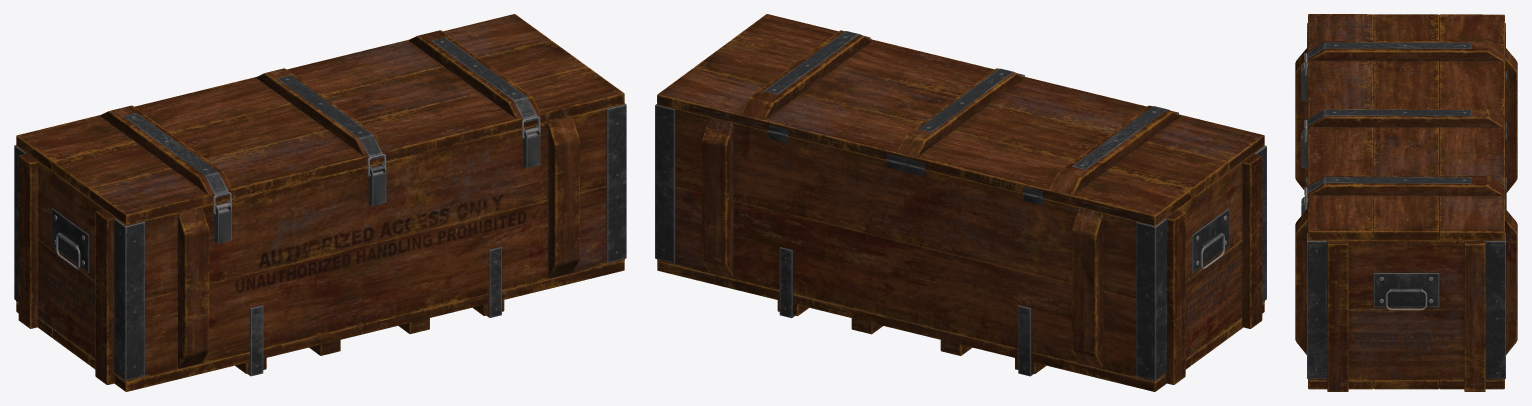
Rendered from wooden_military_crate.glb.
3 renders of one model, left to right at view 1: azimuth 30°, elevation 25°; view 2: azimuth 150°, elevation 25°; view 3: azimuth 270°, elevation 25°, orthographic. The views are drawn at different scales.
Parts seen in each view (by area): view 1: wooden_military_crate, wooden_military_crate_lid; view 2: wooden_military_crate, wooden_military_crate_lid; view 3: wooden_military_crate_lid, wooden_military_crate.
Boxes of the visible parts, x1,y1,x2,y2 form: wooden_military_crate: (14, 103, 626, 391); wooden_military_crate_lid: (16, 14, 624, 224); wooden_military_crate: (655, 104, 1266, 391); wooden_military_crate_lid: (657, 14, 1264, 225); wooden_military_crate_lid: (1304, 14, 1506, 240); wooden_military_crate: (1295, 23, 1517, 391).
Size of the model in its own units: 1.24 by 0.4648 by 0.5198.
1 material, 1 textured.
